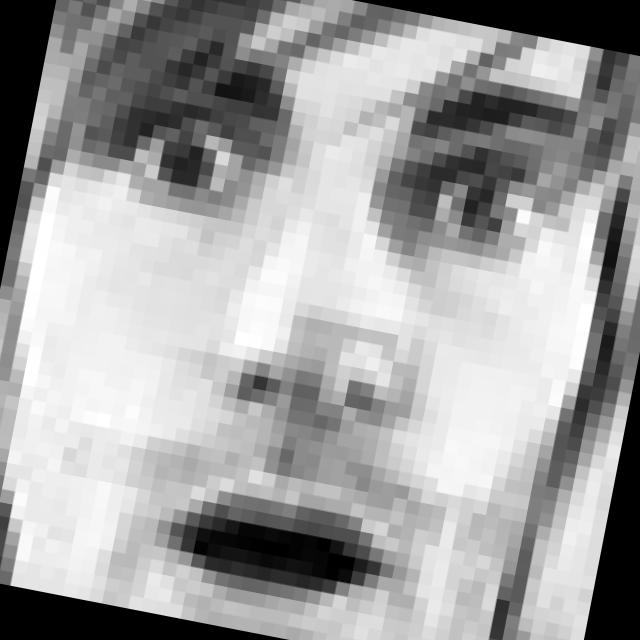surprise: (4, 3, 593, 640)
